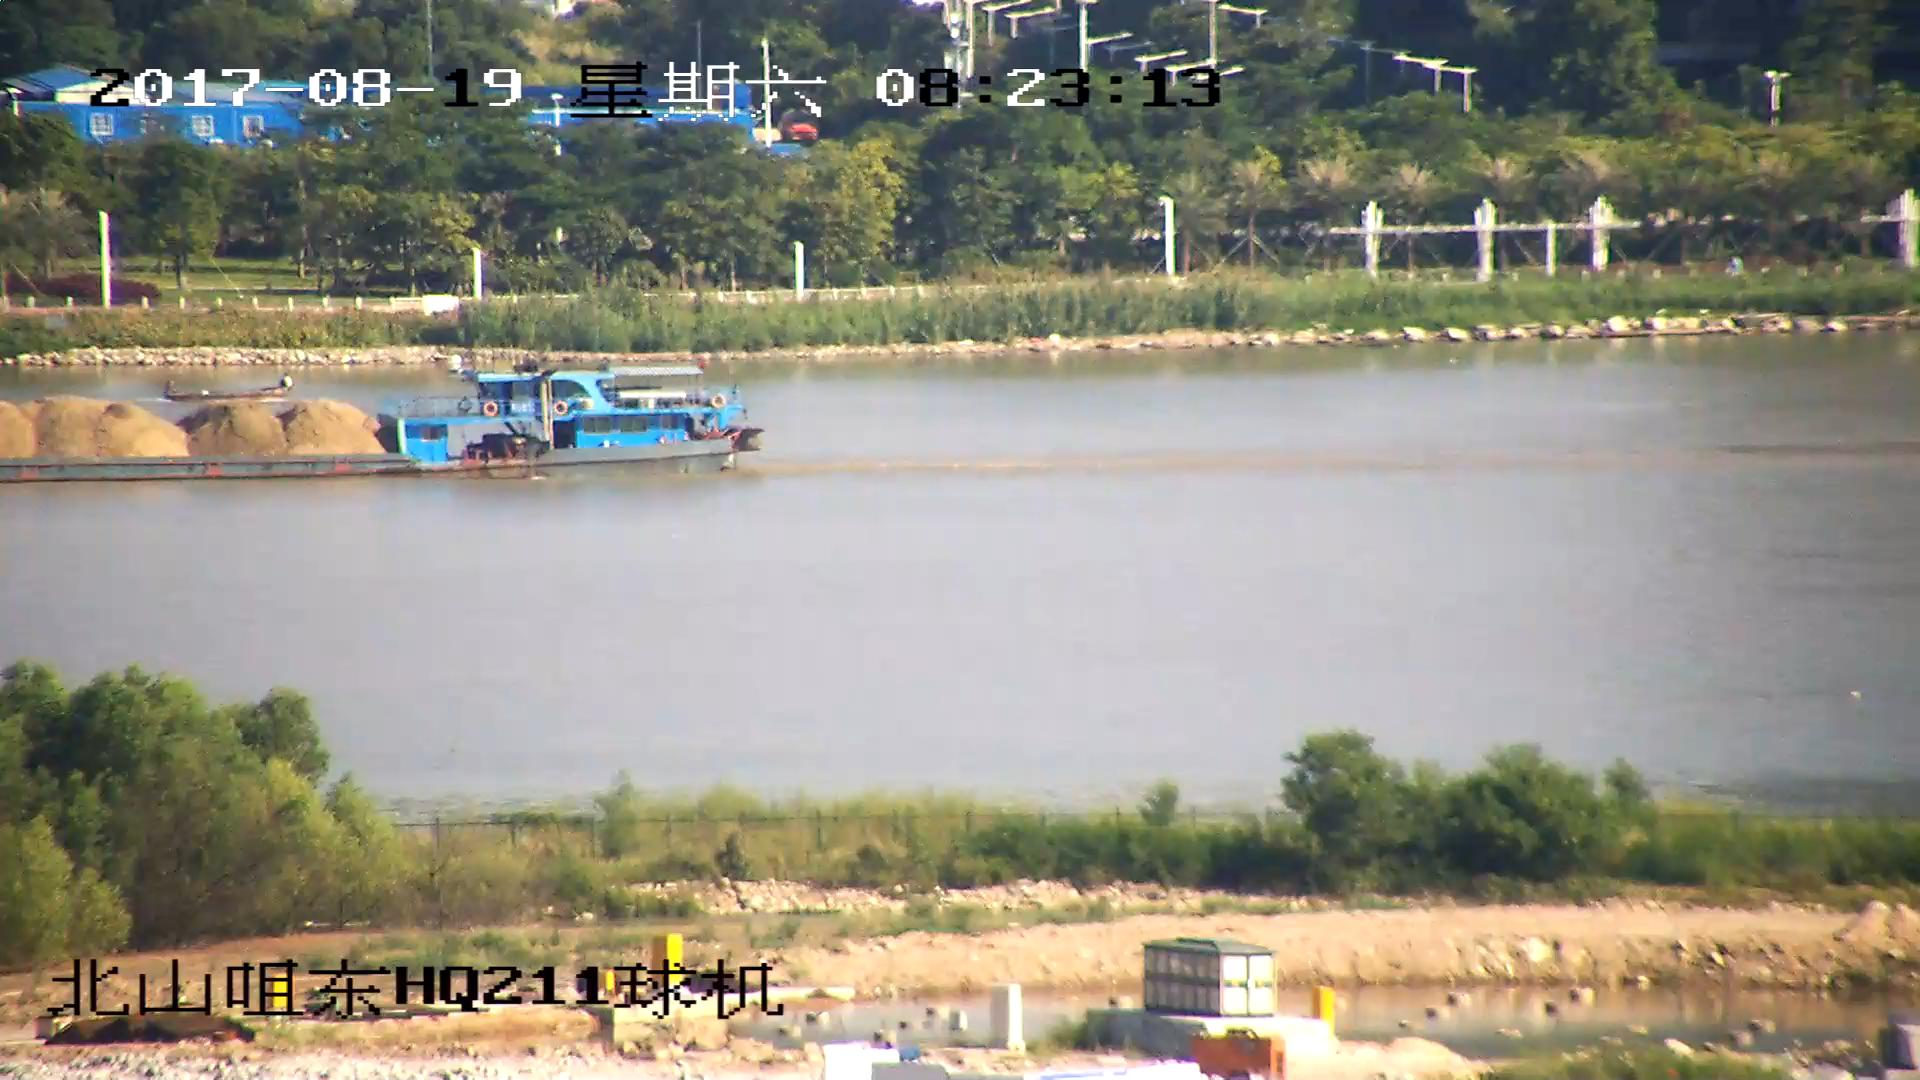fishing boat: (162, 375, 296, 404)
ore carrier: (1, 349, 764, 479)
